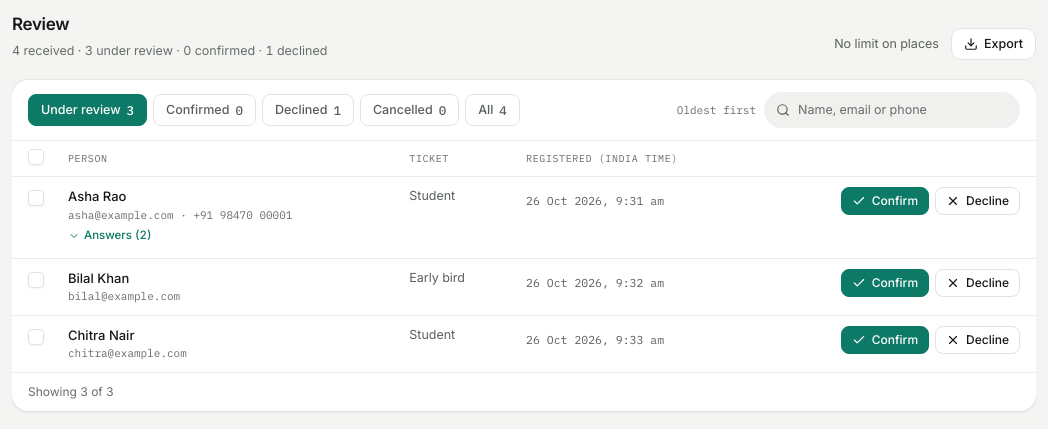
Test: the list › shows each tab's own requests, with what was decided
Expected: the text "Asha Rao" is shown, [68,188,126,204]
Click the button "Declined 1".
click(308, 110)  # box [262,94,354,126]
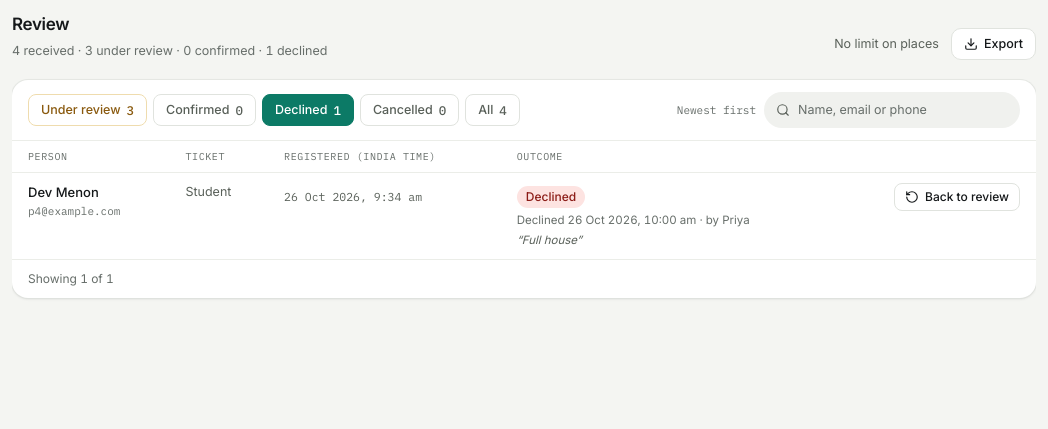
Expected: the text "Dev Menon" is shown, [28,184,99,200]
Expected: the text "“Full house”" is shown, [517,232,582,246]
Expected: the text "Declined 26 Oct 2026, 10:00 am · by Priya" is shown, [517,212,777,230]
